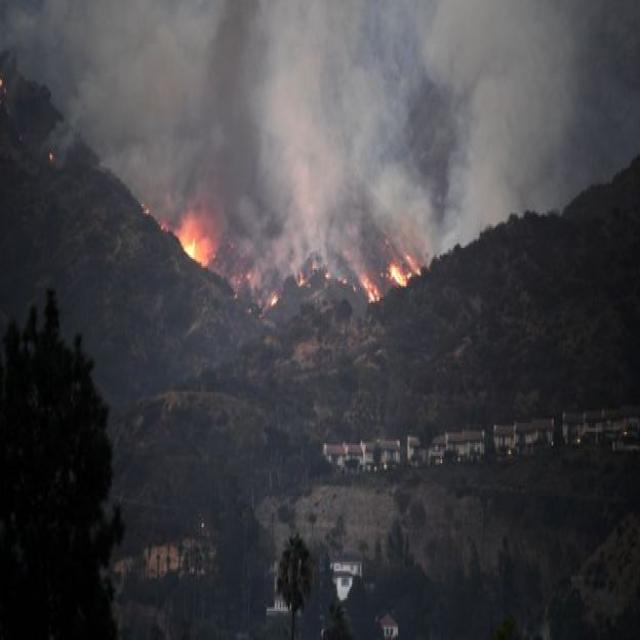smoke: (92, 5, 421, 211), (425, 5, 617, 180)
